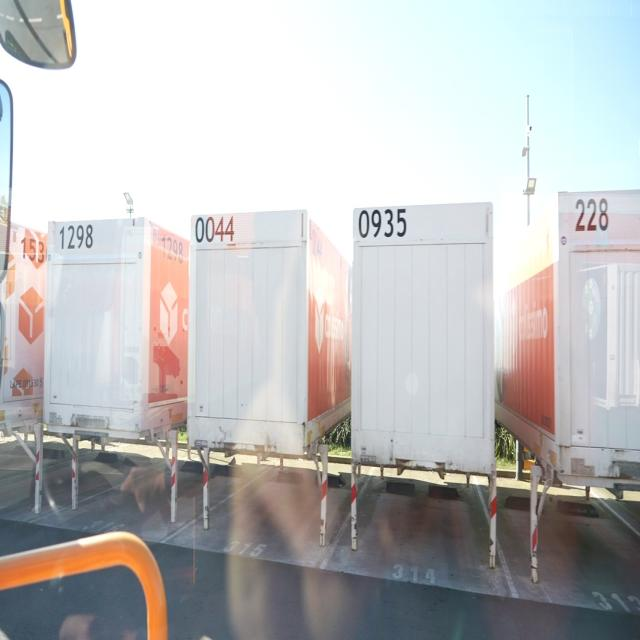Code: (355, 207, 410, 242), (571, 193, 611, 236), (192, 210, 235, 246), (57, 219, 98, 253), (158, 231, 186, 266)
